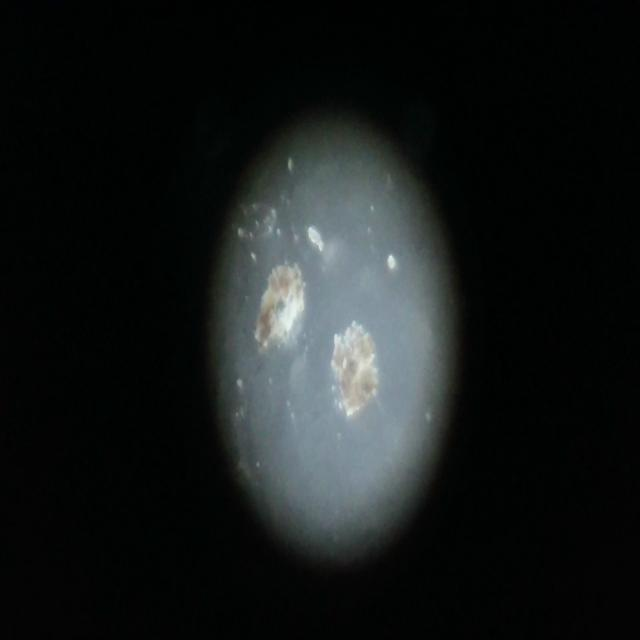alexandrium: (330, 313, 380, 419), (256, 258, 304, 358)
